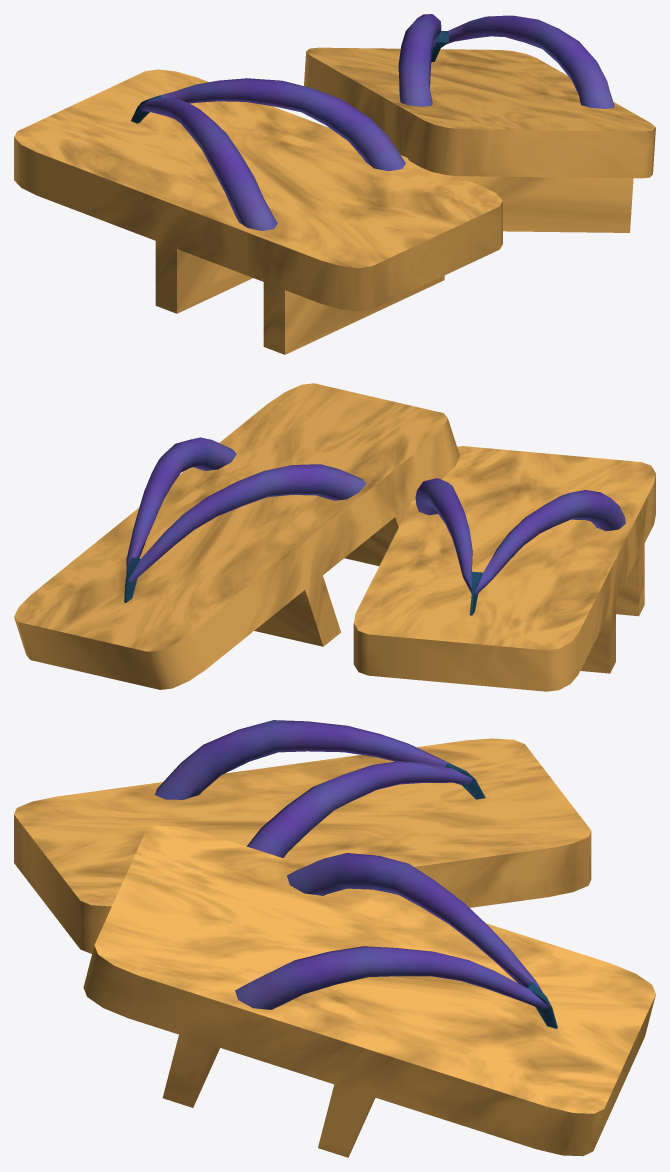
Rendered from item15.fbx.
3 views of the same model, one above another, from view 1: azimuth 30°, elevation 25°; view 2: azimuth 150°, elevation 25°; view 3: azimuth 270°, elevation 25° (orthographic). The views are drawn at different scales.
Visible parts, largest first — view 1: Geta; view 2: Geta; view 3: Geta.
Boxes of the visible parts, bbox=[...] form: Geta: bbox=[14, 14, 655, 354]; Geta: bbox=[14, 383, 655, 691]; Geta: bbox=[14, 720, 655, 1157].
Bounding box in the file's own units: 0.5145 × 0.1765 × 0.4688.
Materials: 1 (1 with a texture image).
